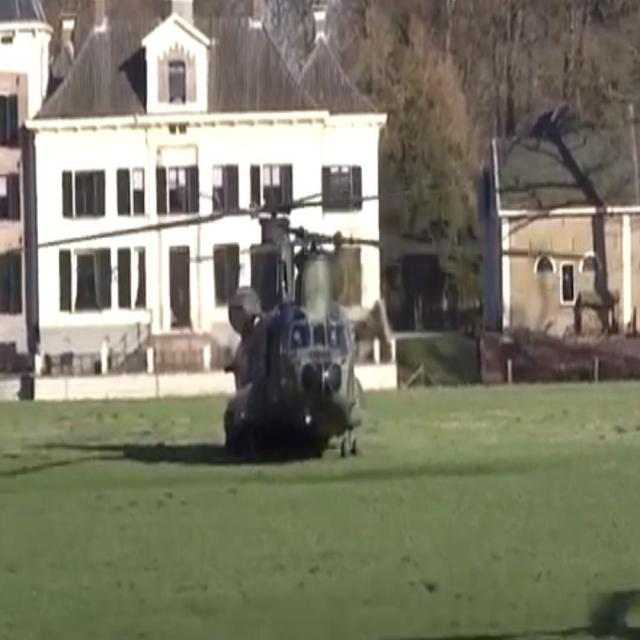Helicopter: (188, 190, 438, 489)
